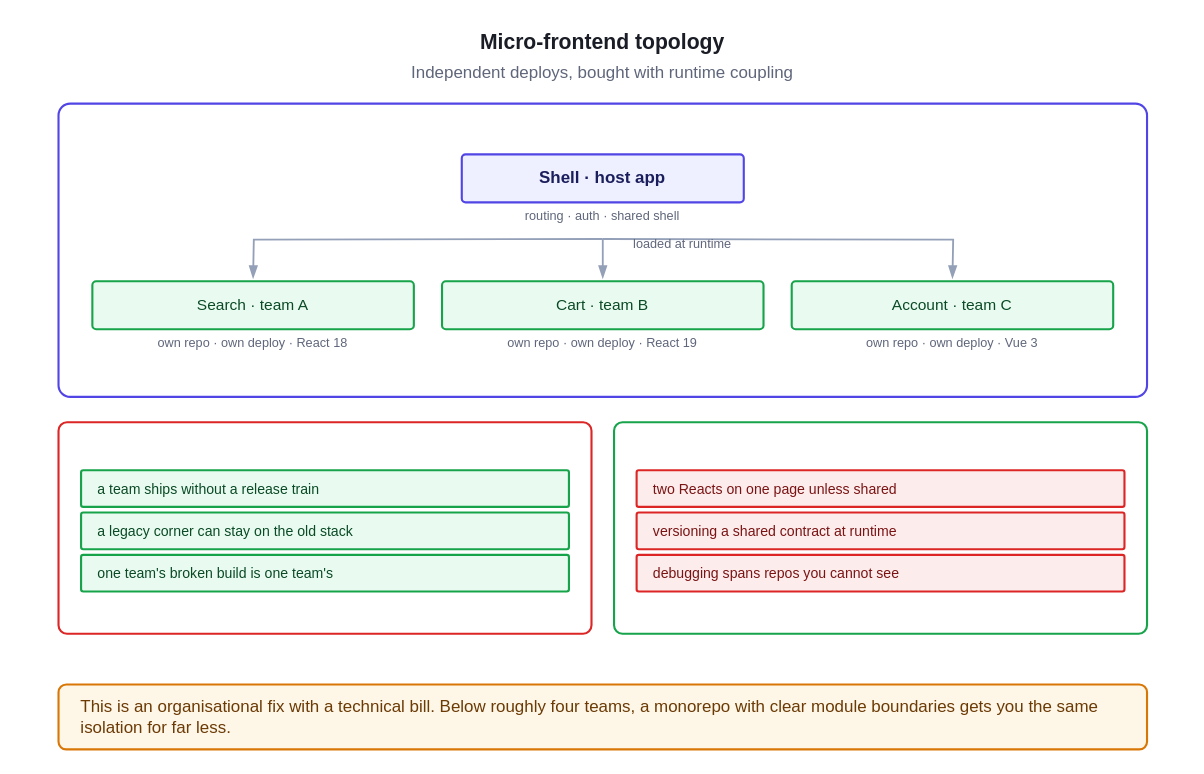
Some shapes in this 1204 by 774 pixel diagram are drawn without their labels. The box of each missing label's shape, as (x1, y1, x2, y2) in pixels:
A shell composing three independently-deployed remotes: (57, 102, 1147, 397)
What you buy: (57, 421, 592, 634)
What you pay: (612, 421, 1147, 634)
